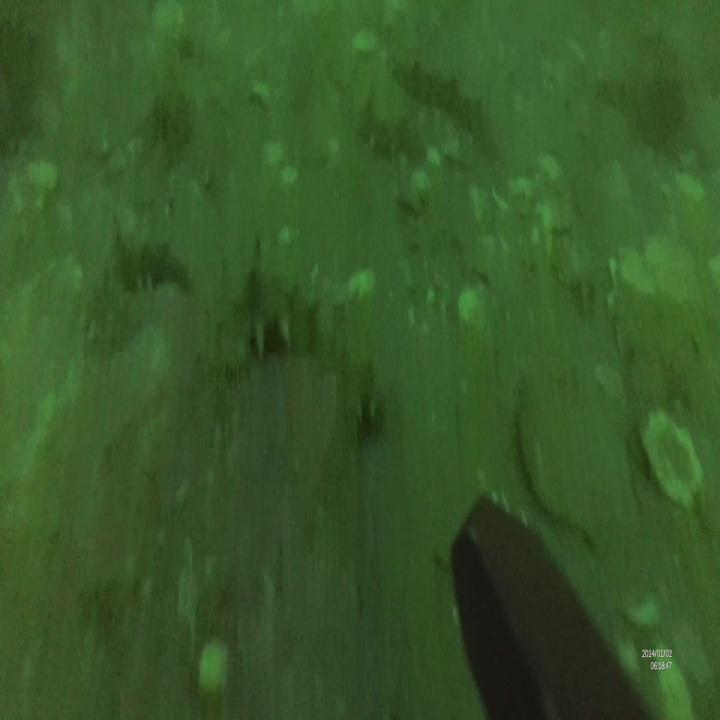holothurian: (224, 243, 326, 367), (347, 99, 427, 166), (102, 232, 188, 292)
